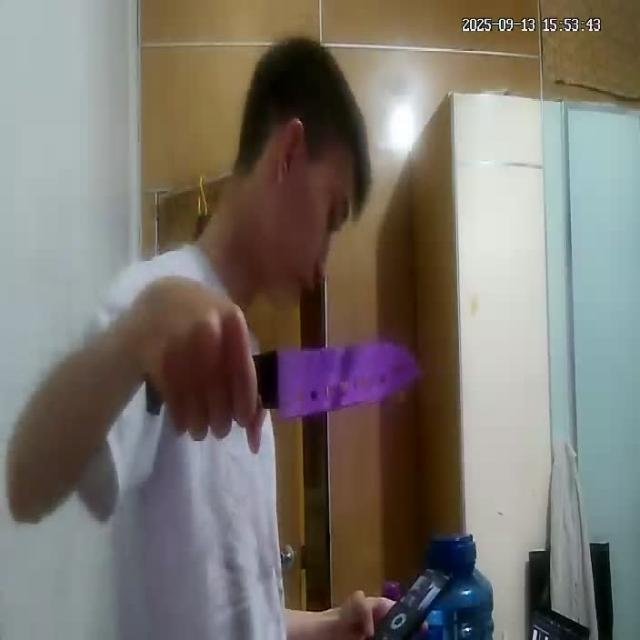senjata_tajam: (254, 341, 427, 420)
